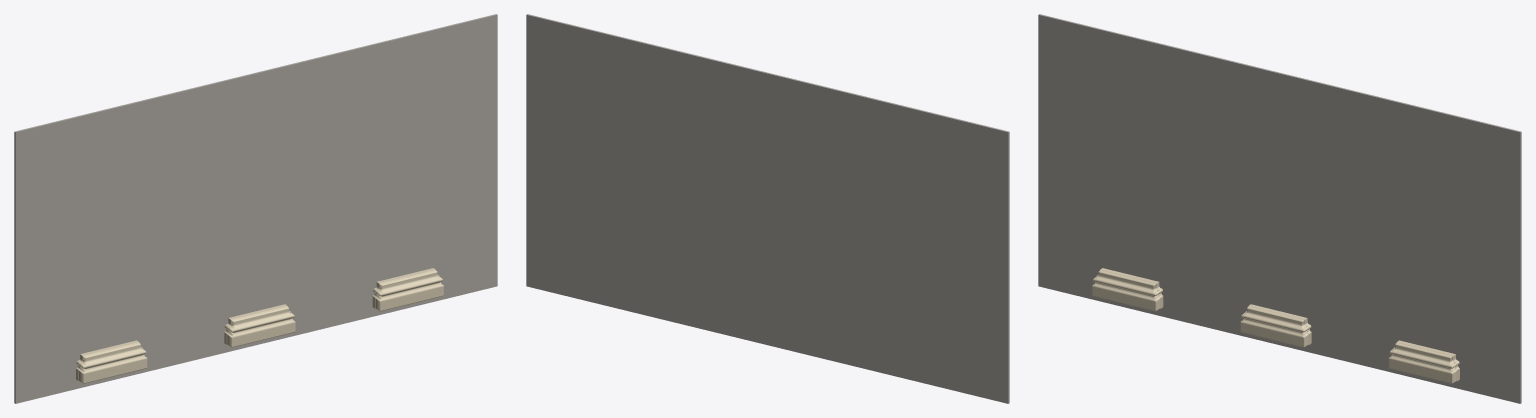
The model's file is terilgan.glb.
The picture shows the model from 3 angles, left to right: view 1: azimuth 30°, elevation 25°; view 2: azimuth 150°, elevation 25°; view 3: azimuth 330°, elevation 25°; orthographic projection.
Visible parts, largest first — view 1: Devor, t1, t2, t0; view 2: Devor; view 3: Devor, t1, t0, t2.
Part boxes in pixels (x1,y1,x2,y2): Devor: [14, 14, 497, 403]; t1: [224, 304, 295, 347]; t2: [372, 268, 443, 311]; t0: [76, 340, 147, 383]; Devor: [526, 14, 1009, 403]; Devor: [1038, 14, 1521, 403]; t1: [1240, 304, 1311, 347]; t0: [1092, 268, 1163, 311]; t2: [1388, 340, 1459, 383].
Bounding box in the file's own units: 2.6 × 1.4 × 0.0769.
